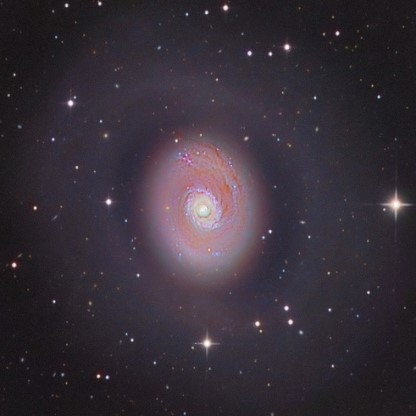Messier 94: (42, 26, 371, 383)
